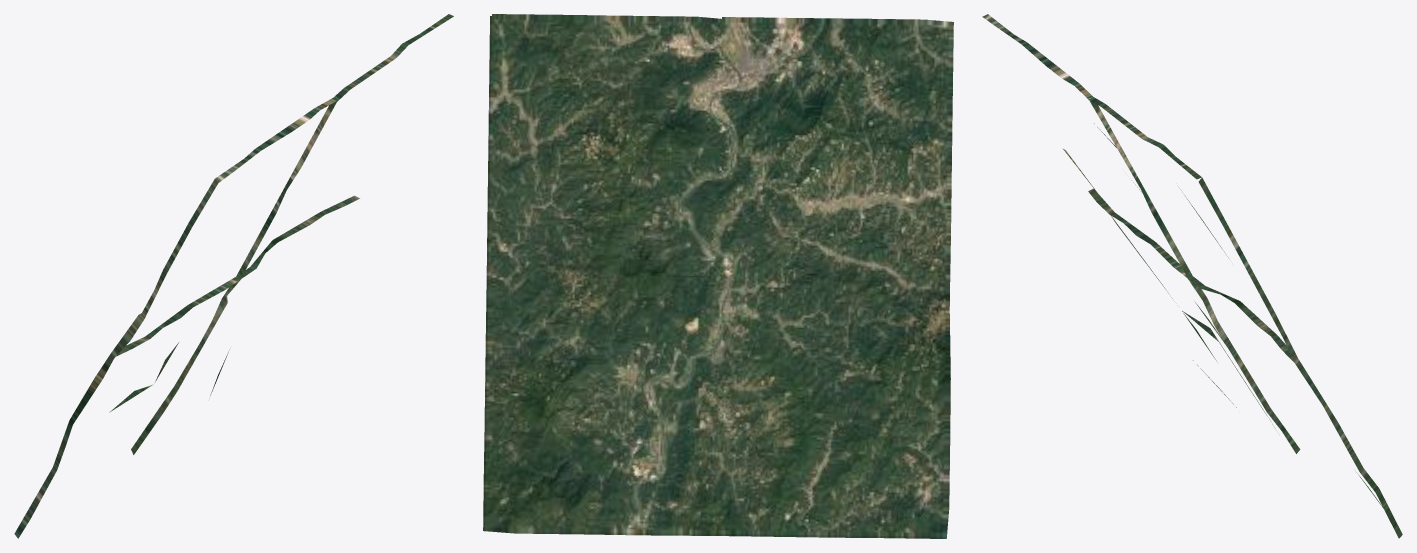
3 renders of one model, left to right at view 1: azimuth 30°, elevation 25°; view 2: azimuth 150°, elevation 25°; view 3: azimuth 270°, elevation 25°, orthographic. The views are drawn at different scales.
Size of the model in its own units: 39737 by 35531 by 33009.
Materials: 1 (1 with a texture image).
